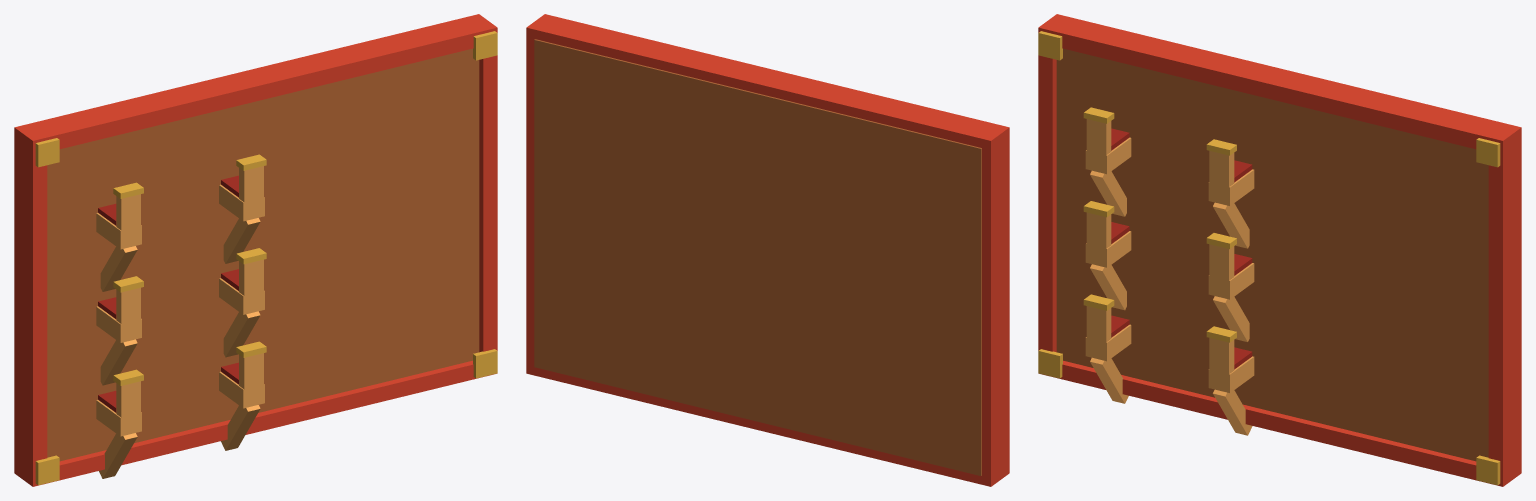
Rendered from WallSwordRack.fbx.
3 views of the same model, side by side, from view 1: azimuth 30°, elevation 25°; view 2: azimuth 150°, elevation 25°; view 3: azimuth 330°, elevation 25° (orthographic).
Visible parts, largest first — view 1: WallSwordRack_fd_wood_dk, WallSwordRack_fd_red, WallSwordRack_fd_wood, WallSwordRack_gold, WallSwordRack_fd_red_dk; view 2: WallSwordRack_fd_wood_dk, WallSwordRack_fd_red; view 3: WallSwordRack_fd_wood_dk, WallSwordRack_fd_red, WallSwordRack_fd_wood, WallSwordRack_gold, WallSwordRack_fd_red_dk.
Boxes of the visible parts, <box> form: WallSwordRack_fd_wood_dk: <box>47,48,479,461</box>; WallSwordRack_fd_red: <box>14,14,497,486</box>; WallSwordRack_fd_wood: <box>96,166,264,478</box>; WallSwordRack_gold: <box>35,31,497,485</box>; WallSwordRack_fd_red_dk: <box>98,175,238,412</box>; WallSwordRack_fd_wood_dk: <box>534,39,981,475</box>; WallSwordRack_fd_red: <box>526,14,1009,486</box>; WallSwordRack_fd_wood_dk: <box>1056,48,1488,461</box>; WallSwordRack_fd_red: <box>1038,14,1521,486</box>; WallSwordRack_fd_wood: <box>1085,119,1254,435</box>; WallSwordRack_gold: <box>1038,31,1500,485</box>; WallSwordRack_fd_red_dk: <box>1111,128,1252,369</box>.
Bounding box in the file's own units: 5.2 × 3.84 × 0.79.
